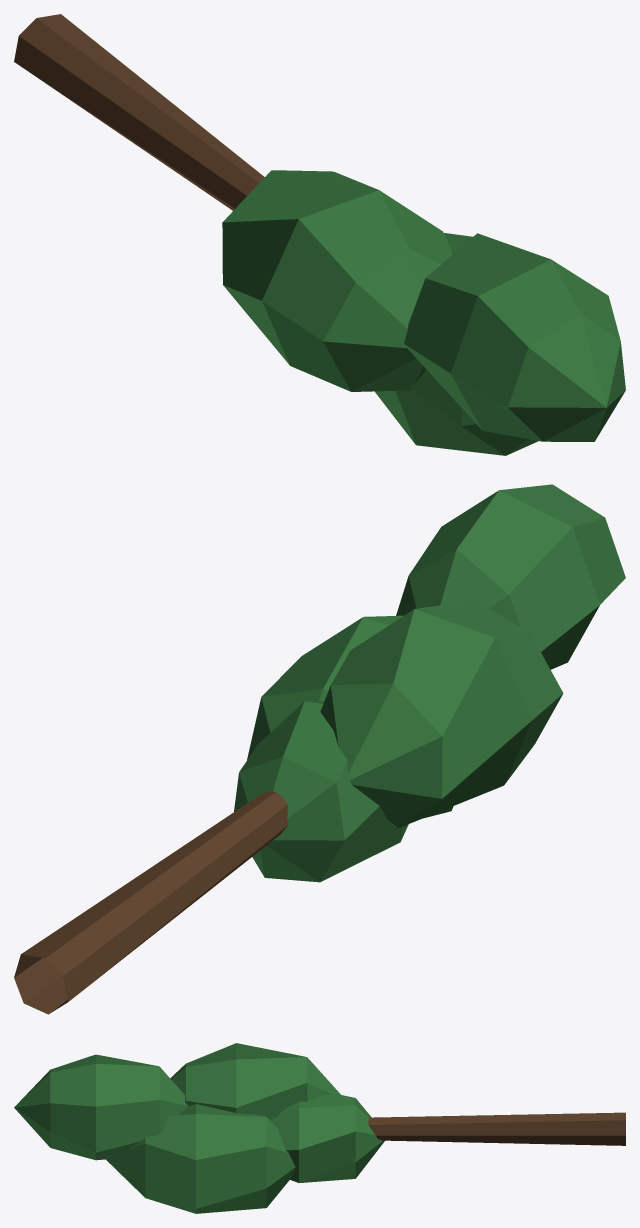
Rendered from growth_2.glb.
The picture shows the model from 3 angles, top to bottom: view 1: azimuth 30°, elevation 25°; view 2: azimuth 150°, elevation 25°; view 3: azimuth 270°, elevation 25°; orthographic projection. The views are drawn at different scales.
Visible parts, largest first — view 1: tree_00_growth_2; view 2: tree_00_growth_2; view 3: tree_00_growth_2.
Boxes of the visible parts, <box> form: tree_00_growth_2: <box>14,14,625,455</box>; tree_00_growth_2: <box>14,484,625,1014</box>; tree_00_growth_2: <box>14,1043,625,1213</box>.
Size of the model in its own units: 9.09 by 8.23 by 32.54.
